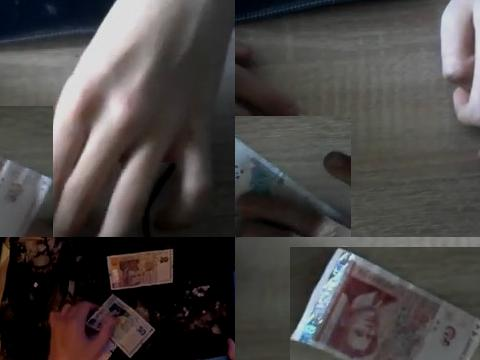20leva: (235, 133, 351, 230)
50leva: (106, 247, 175, 290)
5leva: (290, 247, 480, 360)
